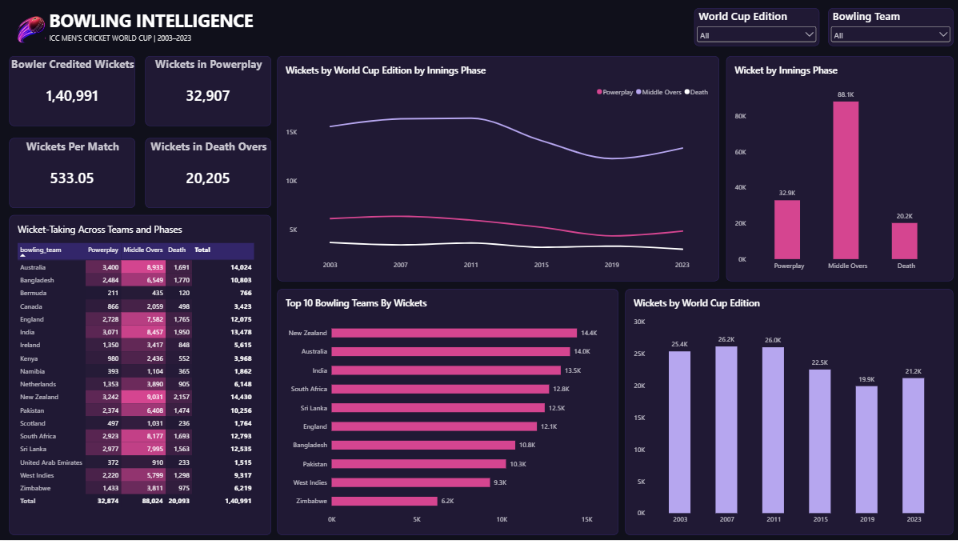

The dashboard page shown, as its layout file describes it:
{"tool":"powerbi","page":{"name":"Bowling Intelligence","canvas":[1920,1080],"ordinal":1},"visuals":[{"type":"cardVisual","title":"Bowler Credited Wickets","fields":{"Data":["all_matches.Bowler Credited Wickets"]},"box":[20,112,252.3,140],"z":0},{"type":"textbox","title":"BOWLING INTELLIGENCE","box":[100,15,414,76],"z":1000},{"type":"cardVisual","title":"Wickets Per Match","fields":{"Data":["all_matches.Wickets per Match"]},"box":[20,276,252.3,140],"z":2000},{"type":"clusteredBarChart","title":"Top 10 Bowling Teams By Wickets","fields":{"Category":["all_matches.bowling_team"],"Y":["all_matches.Bowler Credited Wickets"]},"box":[555,578,682,492],"z":3000},{"type":"cardVisual","title":"Wickets in Powerplay","fields":{"Data":["all_matches.Wickets in Powerplay"]},"box":[291.7,112,252.3,140],"z":4000},{"type":"clusteredColumnChart","title":"Wickets by World Cup Edition","fields":{"Category":["all_matches.World_Cup_Year"],"Y":["all_matches.Total Wickets"]},"box":[1252,578,656,492],"z":5000},{"type":"cardVisual","title":"Wickets in Death Overs","fields":{"Data":["all_matches.Wickets in Death Overs"]},"box":[291.7,276,252.3,140],"z":6000},{"type":"clusteredColumnChart","title":"Wicket by Innings Phase","fields":{"Category":["all_matches.Innings_Phase"],"Y":["all_matches.Total Wickets"]},"box":[1454,112,454,450],"z":7000},{"type":"pivotTable","title":"Wicket-Taking Across Teams and Phases","fields":{"Columns":["all_matches.Innings_Phase"],"Rows":["all_matches.bowling_team"],"Values":["all_matches.Bowler Credited Wickets"]},"box":[20,430,524,640],"z":8000},{"type":"lineChart","title":"Wickets by World Cup Edition by Innings Phase","fields":{"Category":["all_matches.World_Cup_Year"],"Series":["all_matches.Innings_Phase"],"Y":["all_matches.Total Wickets"]},"box":[555,112,884,450],"z":9000},{"type":"slicer","fields":{"Values":["all_matches.World_Cup_Year"]},"box":[1390,16,250,76],"z":10000},{"type":"slicer","fields":{"Values":["all_matches.bowling_team"]},"box":[1658,16,250,76],"z":11000},{"type":"image","box":[20,15,84,76],"z":11001}]}

Visuals, with their boxes in screenshot pixels (x1, y1, x2, y2), scaled from the page's 1920x1080 canvas onto the 958x541 screenshot:
"Bowler Credited Wickets" cardVisual: bbox=[10, 56, 136, 126]
"BOWLING INTELLIGENCE" textbox: bbox=[50, 8, 256, 46]
"Wickets Per Match" cardVisual: bbox=[10, 138, 136, 208]
"Top 10 Bowling Teams By Wickets" clusteredBarChart: bbox=[277, 290, 617, 536]
"Wickets in Powerplay" cardVisual: bbox=[146, 56, 271, 126]
"Wickets by World Cup Edition" clusteredColumnChart: bbox=[625, 290, 952, 536]
"Wickets in Death Overs" cardVisual: bbox=[146, 138, 271, 208]
"Wicket by Innings Phase" clusteredColumnChart: bbox=[725, 56, 952, 282]
"Wicket-Taking Across Teams and Phases" pivotTable: bbox=[10, 215, 271, 536]
"Wickets by World Cup Edition by Innings Phase" lineChart: bbox=[277, 56, 718, 282]
slicer - all_matches.World_Cup_Year: bbox=[694, 8, 818, 46]
slicer - all_matches.bowling_team: bbox=[827, 8, 952, 46]
image: bbox=[10, 8, 52, 46]
